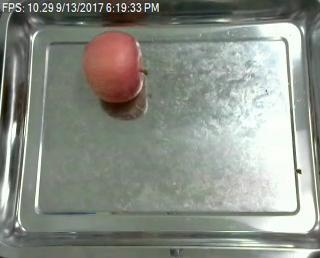apple: (82, 29, 149, 104)
